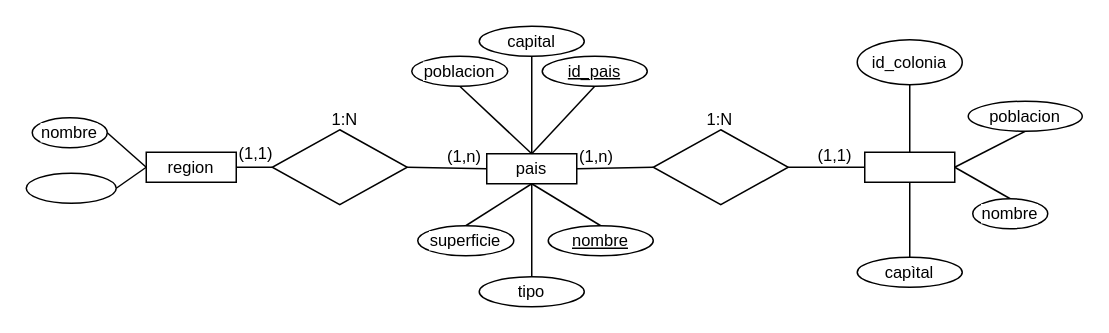
Some shapes in this 1109 by 333 pixel diagram are drawn without their labels. The shapes that lost their labels are listed below. From the top down, each one's centre as x and y in pixels, then its label:
At (x=339, y=166): "es".
At (x=720, y=166): "crean".
At (x=909, y=166): "colonia".
At (x=70, y=187): "id_region".
